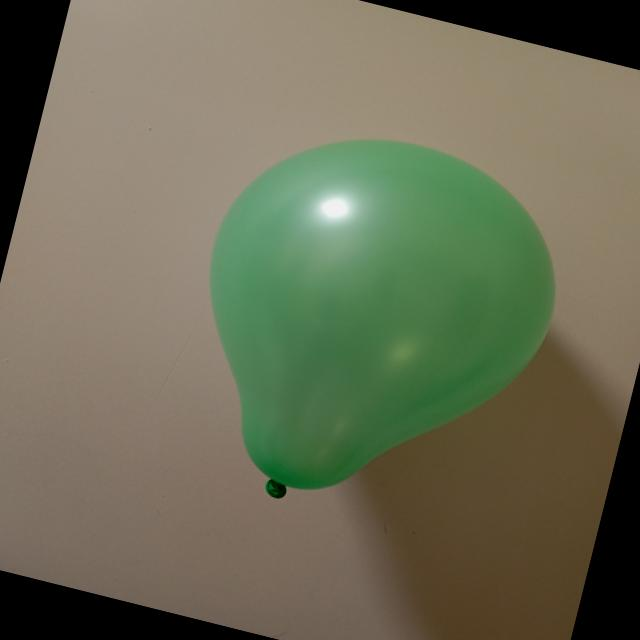balloon: (209, 140, 555, 498)
